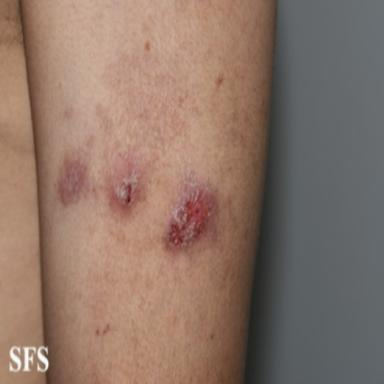Hailey-Hailey-Disease: (165, 171, 217, 247), (109, 149, 145, 211), (58, 156, 87, 205)
